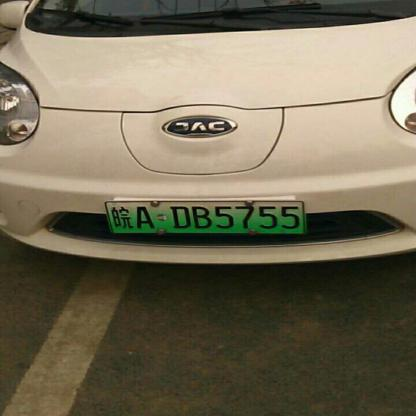lp: (105, 201, 305, 233)
